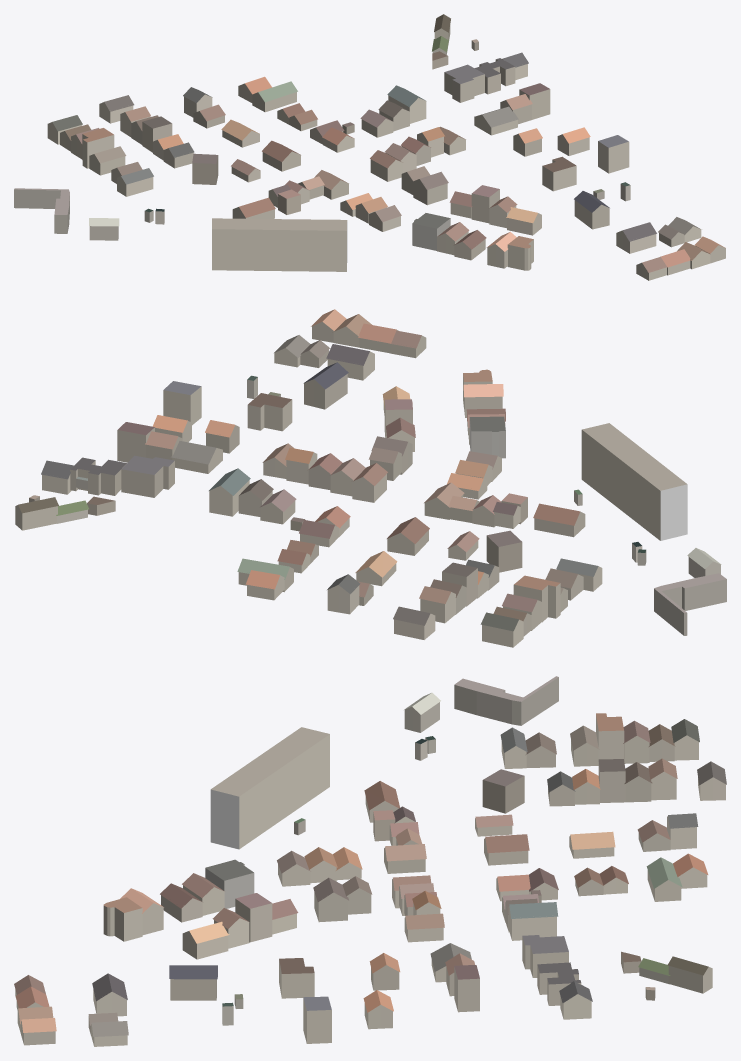
3 renders of one model, top to bottom at view 1: azimuth 30°, elevation 25°; view 2: azimuth 150°, elevation 25°; view 3: azimuth 270°, elevation 25°, orthographic. The views are drawn at different scales.
Visible parts, largest first — view 1: tuile; view 2: tuile; view 3: tuile.
Part boxes in pixels (box(x1,y1,x2,y2)): tuile: box(14, 14, 725, 280); tuile: box(15, 309, 726, 647); tuile: box(14, 676, 726, 1046).
Bounding box in the file's own units: 258 × 26.2 × 239.
